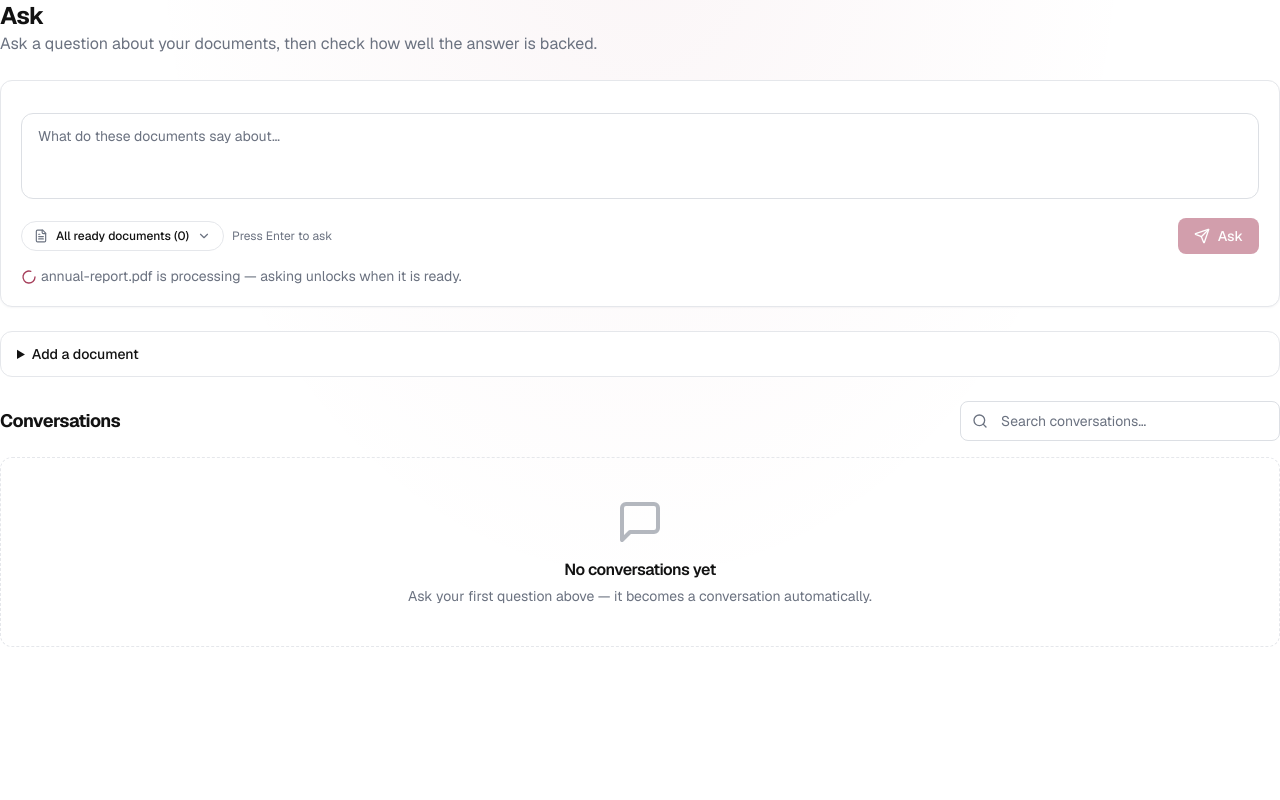
Scenario: WorkspacePage composer › lists the processing document and its status instead of the upload hint
Expected: the text "annual-report.pdf is processing" is shown, [41,267,462,285]
Step 1. Click the button "All ready documents (0)" → (122, 236), box [21,221,224,251]
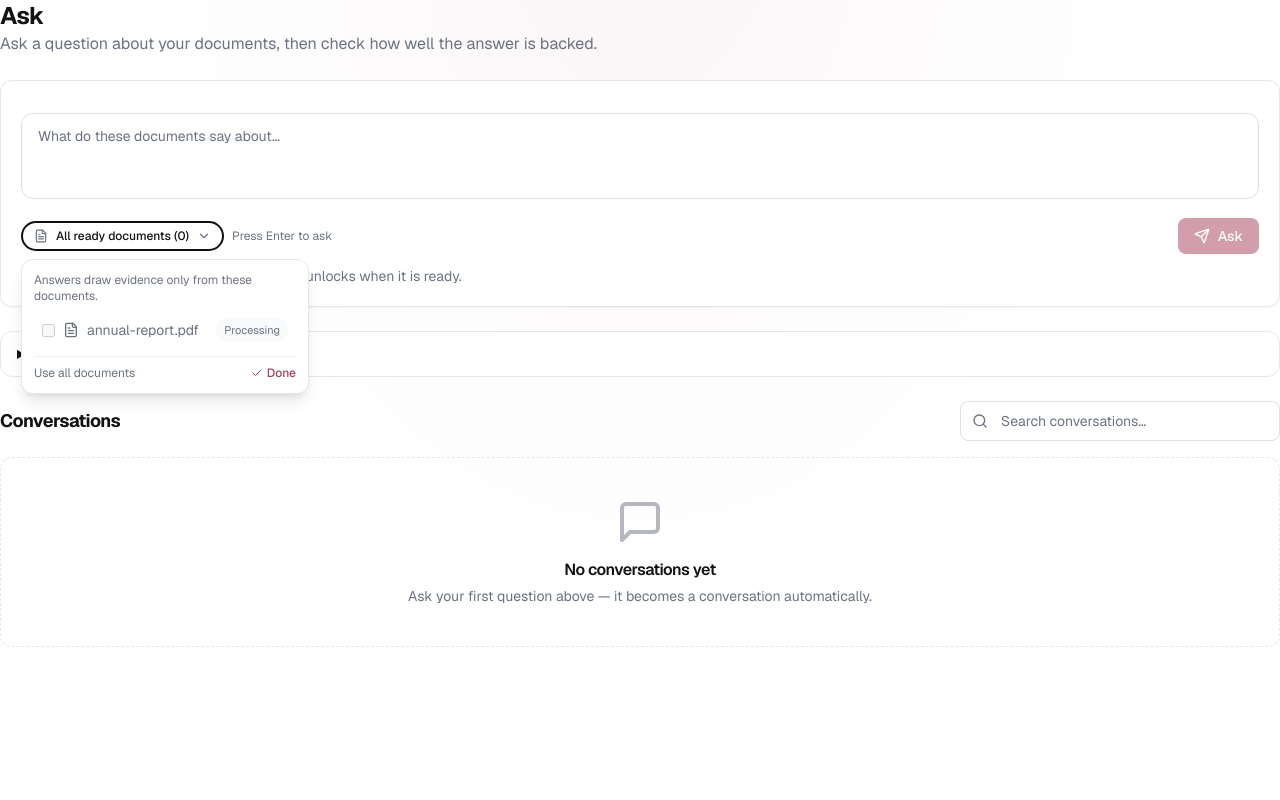
Expected: the checkbox named "annual-report.pdf (Processing)" is disabled, [42,324,55,336]
